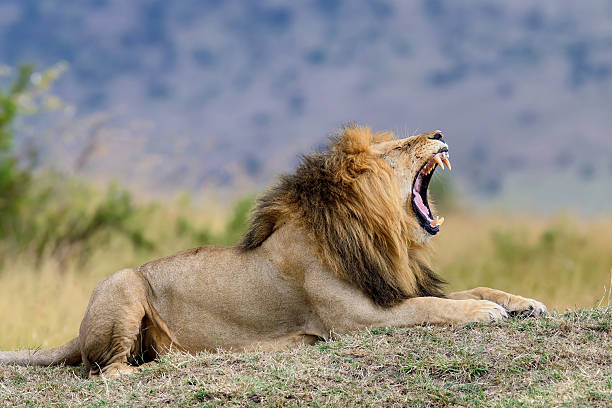lion: (241, 99, 465, 318)
